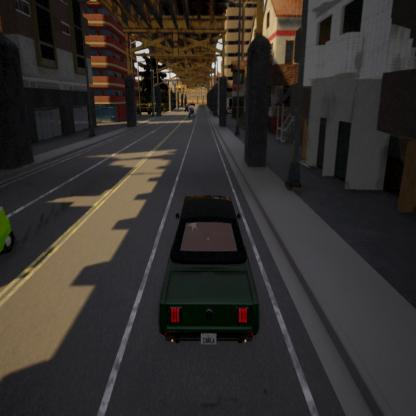Cars: (145, 159, 267, 366), (187, 102, 195, 121), (182, 102, 189, 113)
